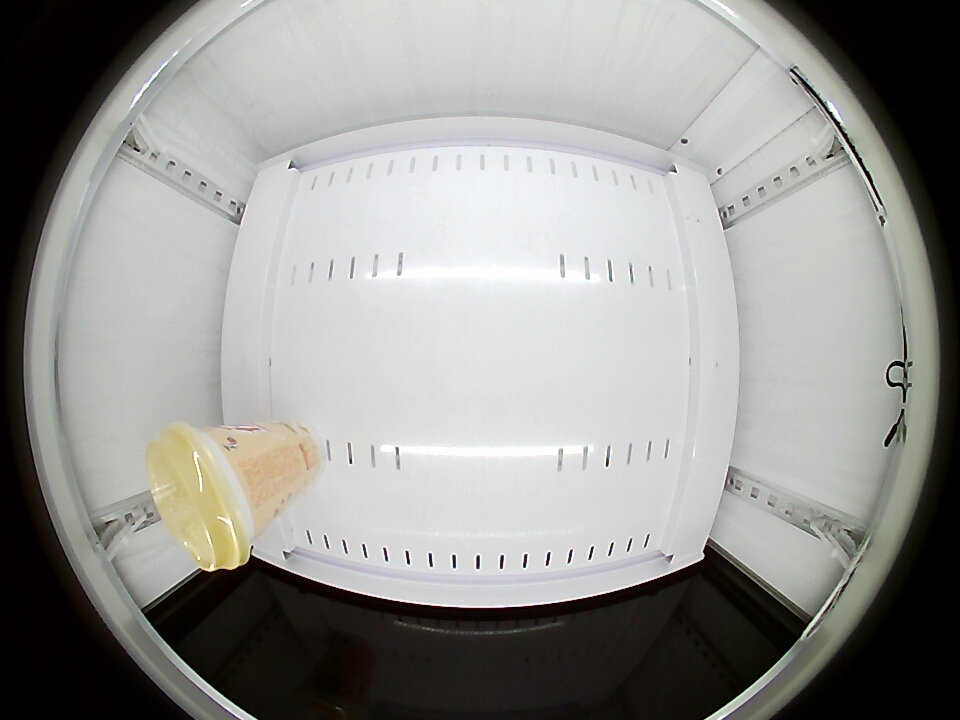youlemei: (147, 423, 263, 573)
